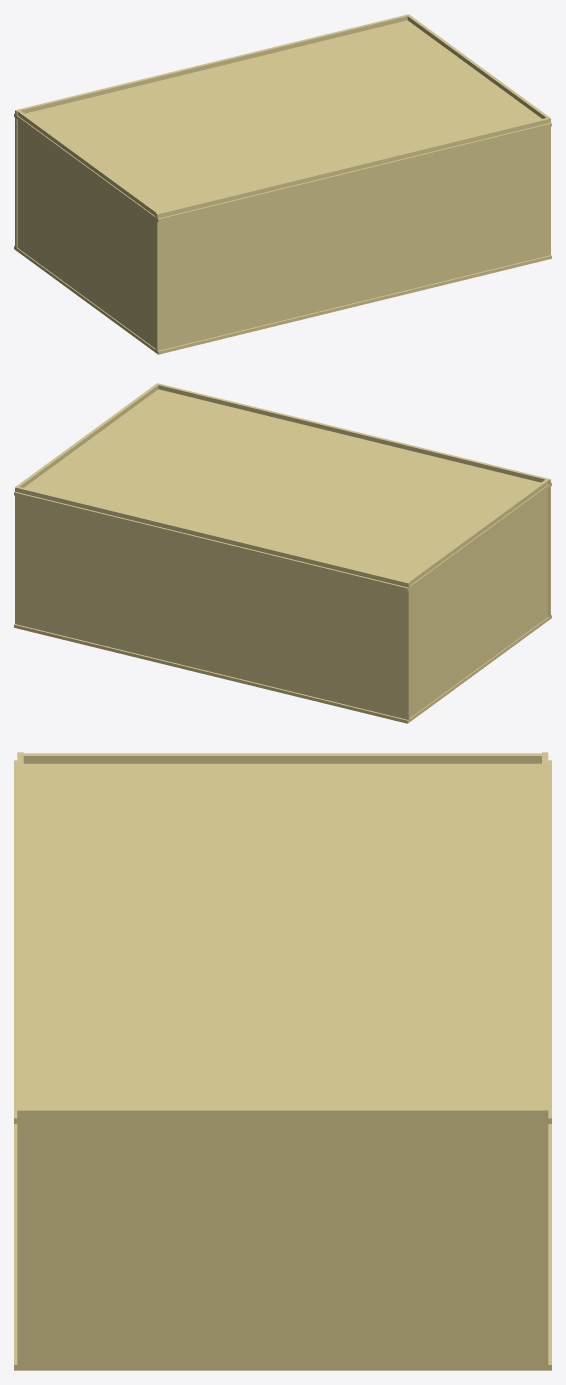
Rendered from houseinside.dae.
3 renders of one model, top to bottom at view 1: azimuth 30°, elevation 25°; view 2: azimuth 150°, elevation 25°; view 3: azimuth 270°, elevation 25°, orthographic. The views are drawn at different scales.
Visible parts, largest first — view 1: Box003, Box006, Box004, Box002, Box007, Box005; view 2: Box002, Box006, Box004, Box003, Box007, Box005; view 3: Box006, Box005, Box004, Box002, Box007, Box003.
Part boxes in pixels (bbox=[...]): Box003: bbox=[155, 118, 550, 351]; Box006: bbox=[14, 20, 551, 222]; Box004: bbox=[17, 110, 159, 348]; Box002: bbox=[15, 14, 409, 249]; Box007: bbox=[14, 246, 551, 354]; Box005: bbox=[407, 15, 550, 118]; Box002: bbox=[15, 486, 410, 721]; Box006: bbox=[14, 389, 551, 591]; Box004: bbox=[406, 478, 548, 717]; Box003: bbox=[156, 383, 550, 616]; Box007: bbox=[14, 615, 551, 723]; Box005: bbox=[16, 383, 159, 487]; Box006: bbox=[14, 760, 551, 1123]; Box005: bbox=[19, 1108, 544, 1368]; Box004: bbox=[19, 753, 541, 763]; Box002: bbox=[542, 752, 548, 1368]; Box007: bbox=[14, 1124, 551, 1370]; Box003: bbox=[17, 752, 23, 1368].
Bounding box in the file's own units: 2993 × 1013 × 1899.
